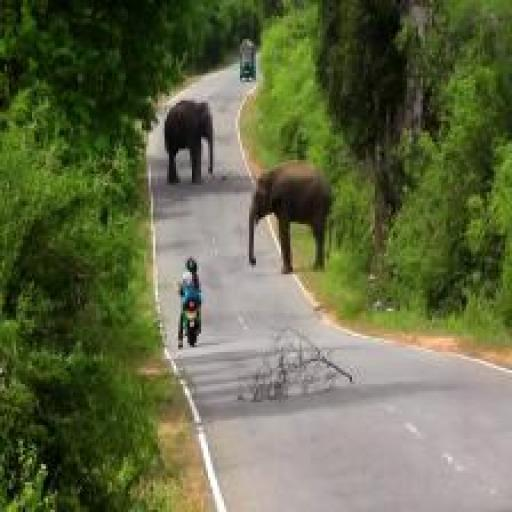Elephant: (247, 158, 338, 274), (164, 96, 220, 193)
